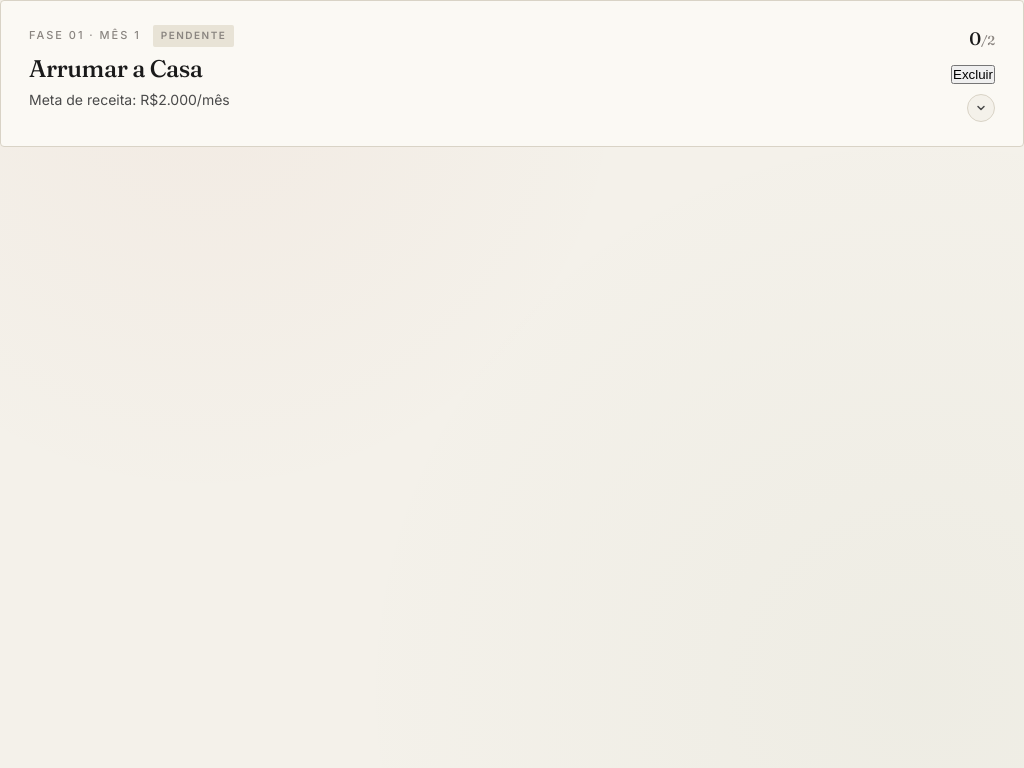
Test: Fase › admin actions — delete fase › should show adapted message when fase has no tasks
This screenshot has width=1024, height=768.
Click the button with test id "btn-delete-fase-fase-1" at coordinates (973, 74), box [951,65,995,84]
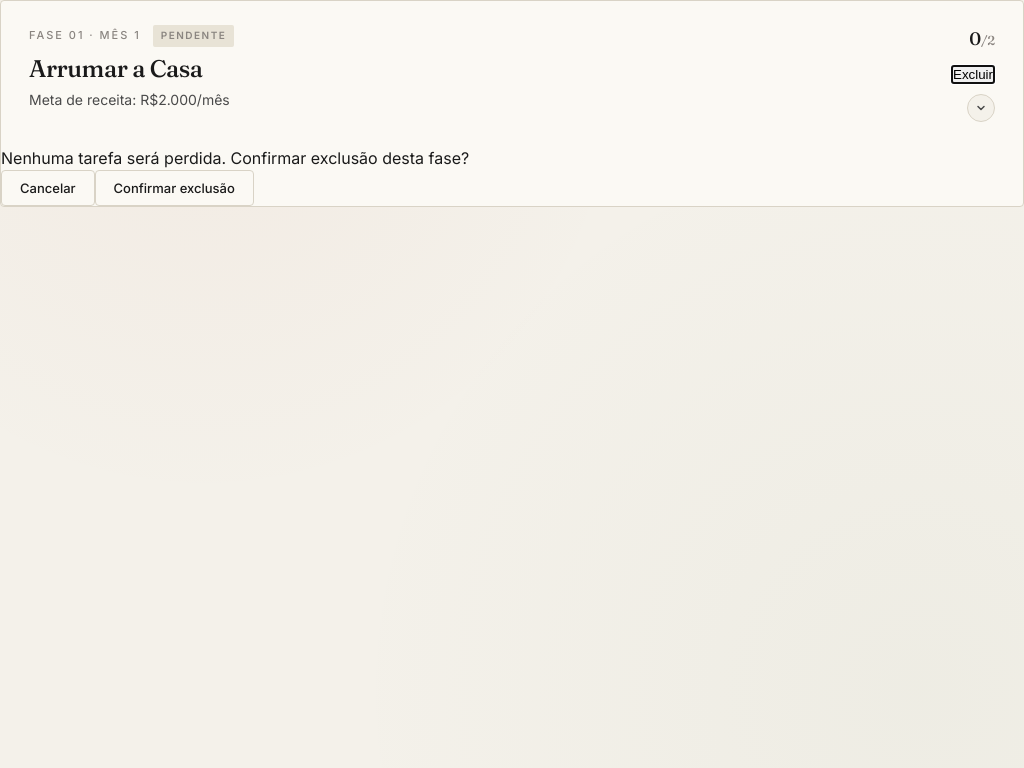
Check: the dialog with test id "dialog-confirm-delete-fase-fase-1" is shown, box [1,148,469,206]
Check: the text "Nenhuma tarefa será perdida. Confirmar exclusão desta fase?" is shown, box [1,148,469,168]
